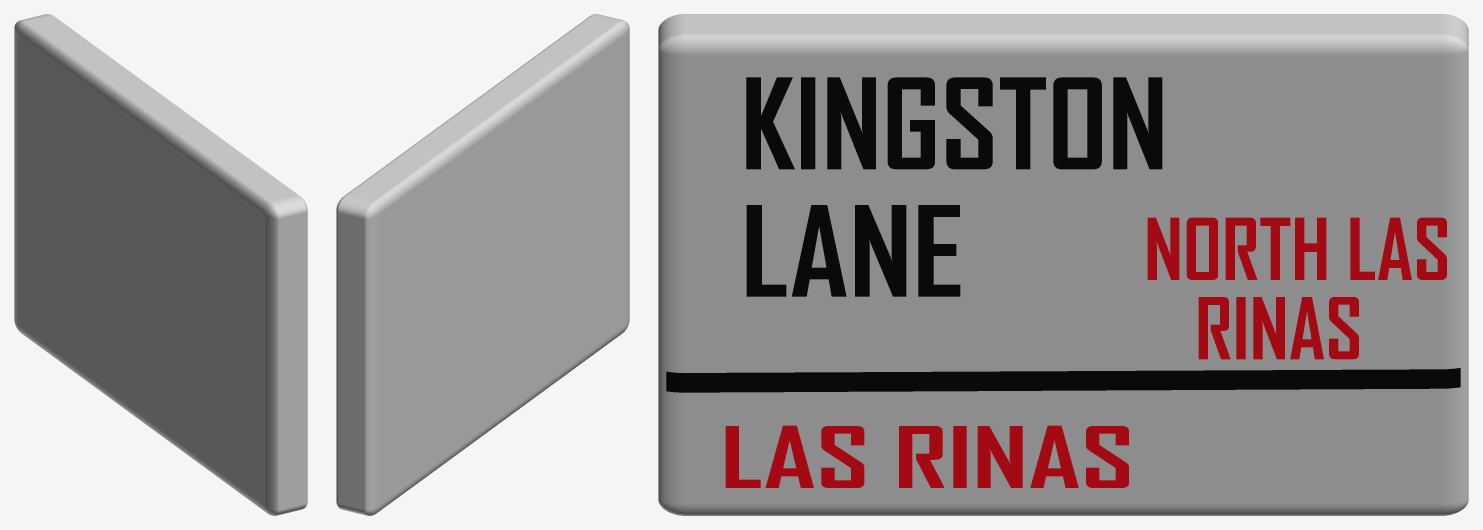
File: uk_styled_street_sign_5.fbx
The picture shows the model from 3 angles, left to right: view 1: azimuth 30°, elevation 25°; view 2: azimuth 150°, elevation 25°; view 3: azimuth 270°, elevation 25°; orthographic projection. The views are drawn at different scales.
Parts seen in each view (by area): view 1: Cube; view 2: Cube; view 3: Cube, Text, Text.002, Text.001, Text.003, Text.004.
Boxes of the visible parts, x1,y1,x2,y2 form: Cube: (14,14,307,515); Cube: (336,14,629,515); Cube: (658,14,1468,515); Text: (746,77,1162,169); Text.002: (725,425,1128,487); Text.001: (746,205,960,296); Text.003: (1147,217,1446,279); Text.004: (1198,297,1358,359).
Size of the model in its own units: 1.63 by 11.91 by 18.18.
